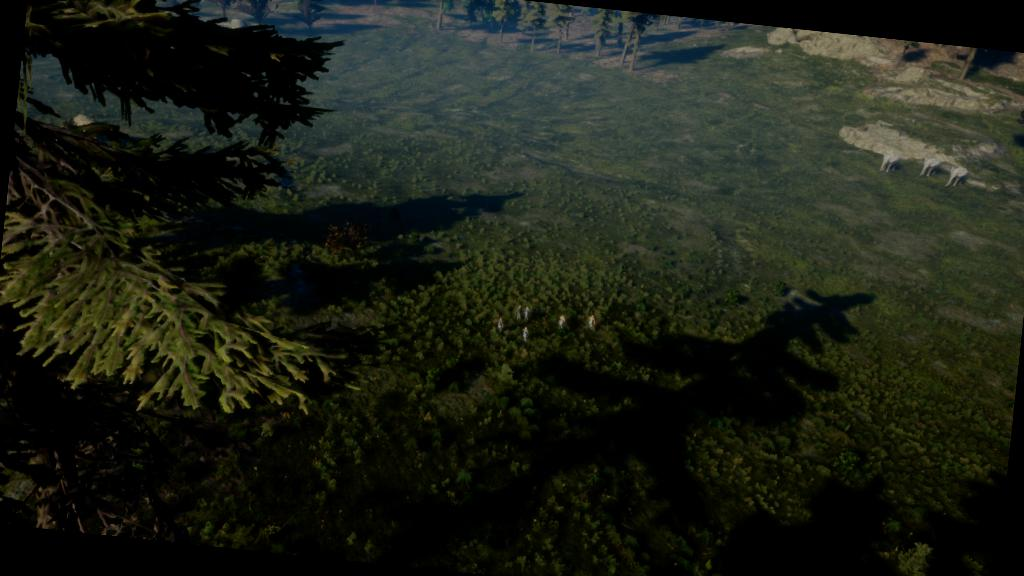elephant: (874, 148, 904, 177), (916, 154, 944, 182), (945, 164, 972, 191)
human: (586, 309, 600, 331), (554, 311, 568, 333), (492, 316, 507, 336), (518, 325, 532, 345), (512, 302, 524, 324), (520, 304, 534, 322)
